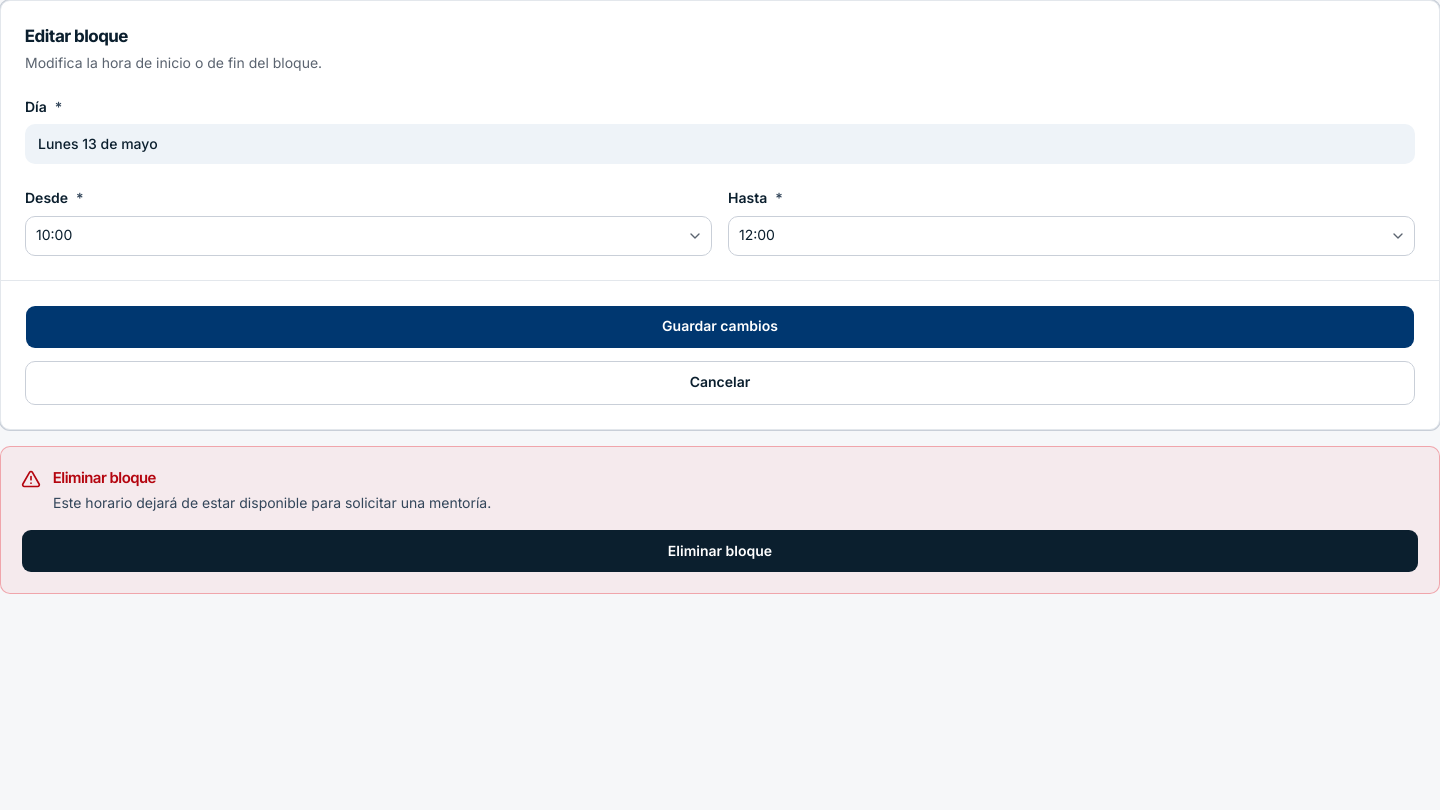
Test case: EditBlockPanel › cancelar el diálogo de eliminar conserva el bloque
The width and height of the screenshot is (1440, 810).
Click the button "Eliminar bloque" at (720, 551), box [21,529,1419,573]
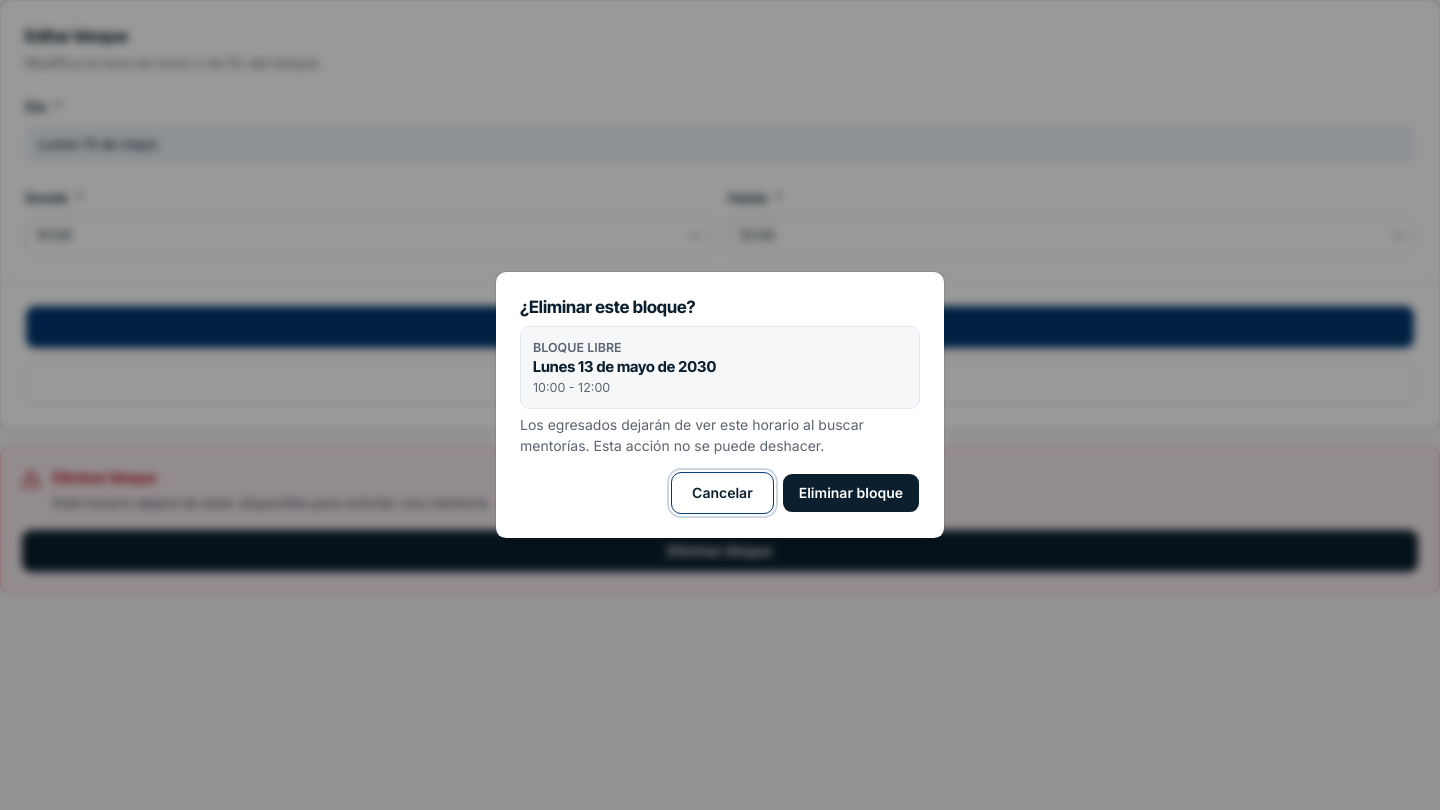
Click the button "Cancelar" at (722, 493), box [671,472,774,514]
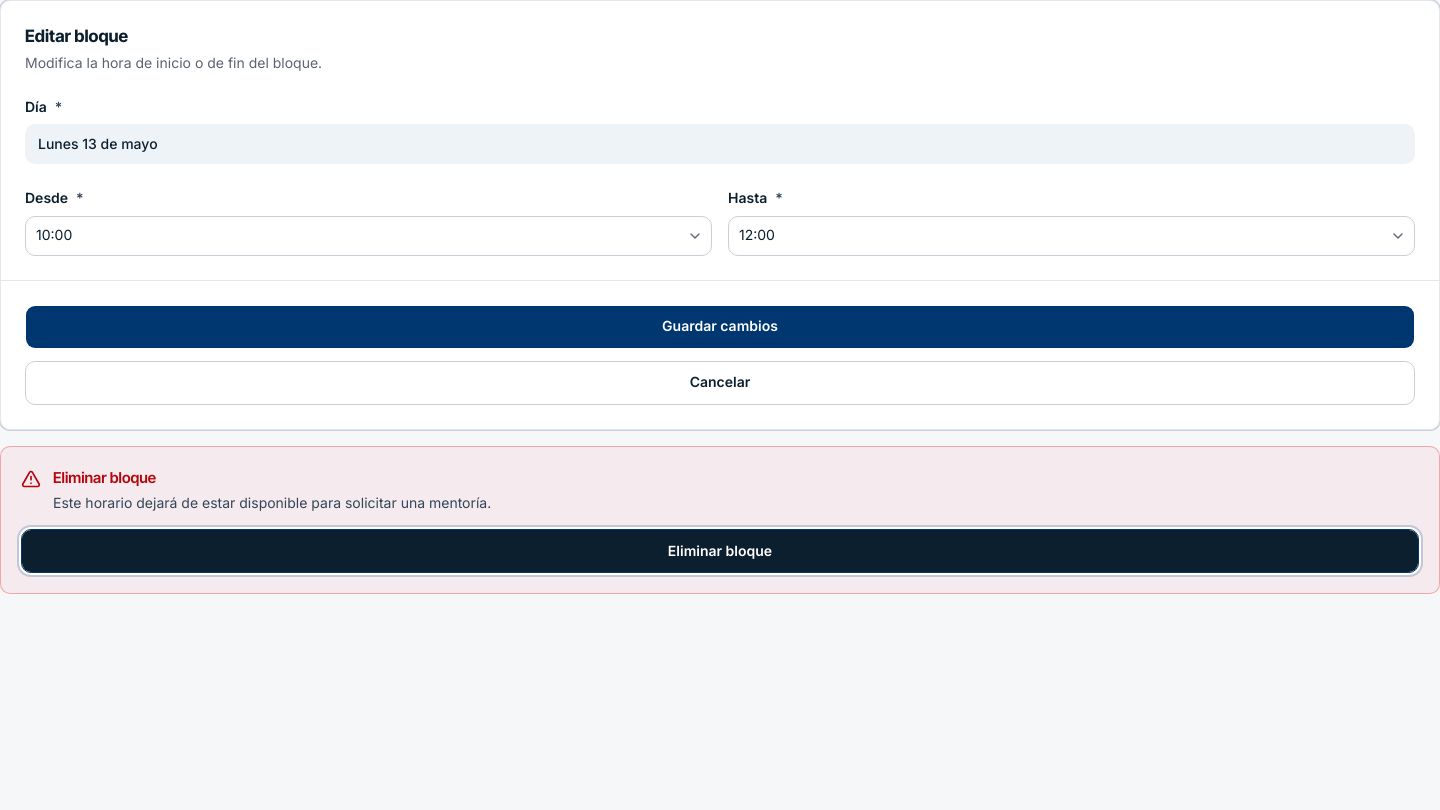
Check: the text "Editar bloque" is shown, box [25,26,128,46]
Check: the dialog is gone
